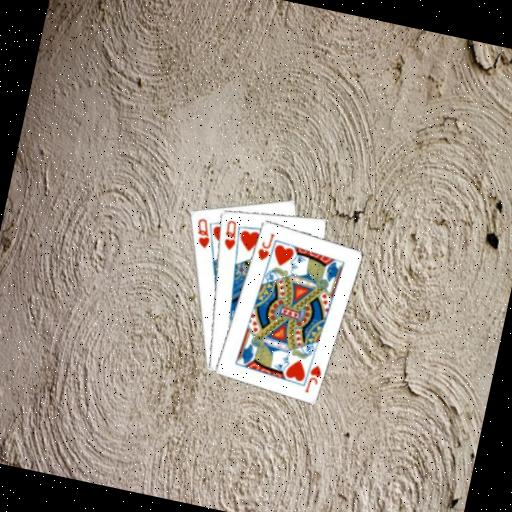JH: (253, 227, 276, 262), (301, 361, 324, 396)
QH: (188, 213, 215, 250), (218, 215, 241, 252)
